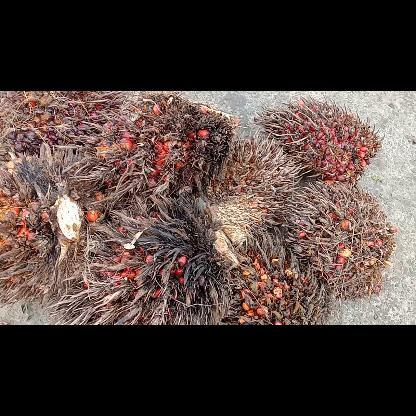Terlalu masak: (51, 194, 246, 324), (0, 144, 113, 303), (88, 90, 236, 194), (283, 180, 395, 300), (255, 94, 383, 184), (202, 128, 301, 235), (223, 233, 329, 324), (0, 90, 123, 160)
